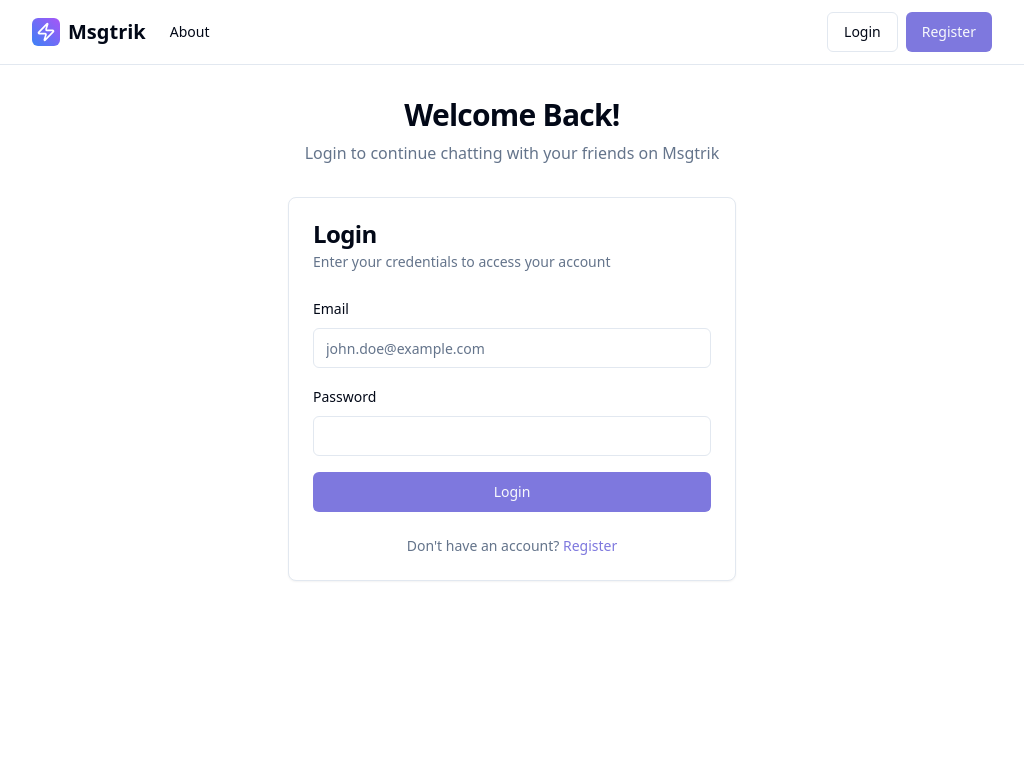
Test: Chat › should search for users
Type "test@example.com" into the field with id "email" at (512, 348), box 313,328 -> 711,368
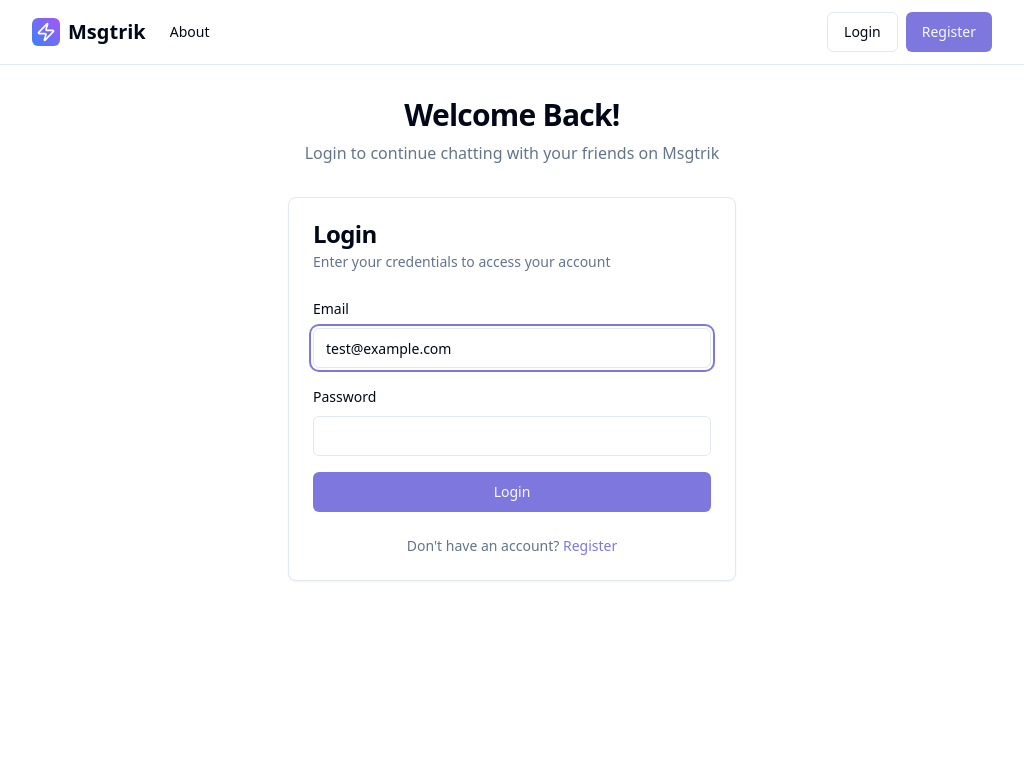
Type "testpassword" into the password field labelled "Password" at (512, 436), box 313,416 -> 711,456
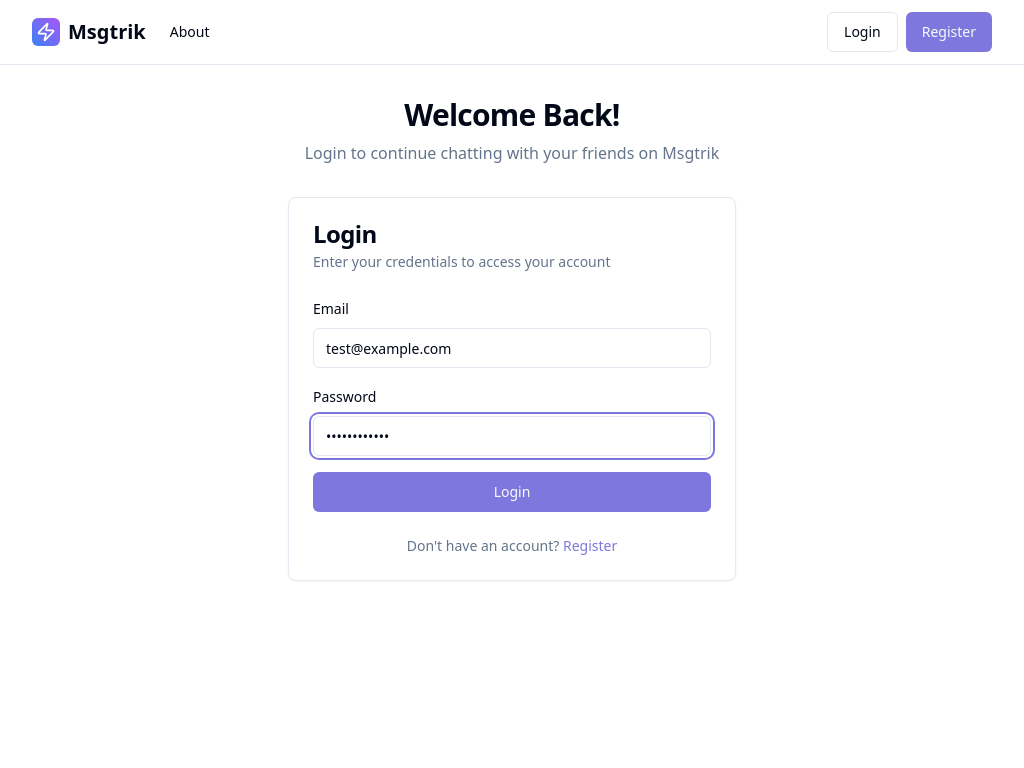
Click the submit button at (512, 492), box 313,472 -> 711,512
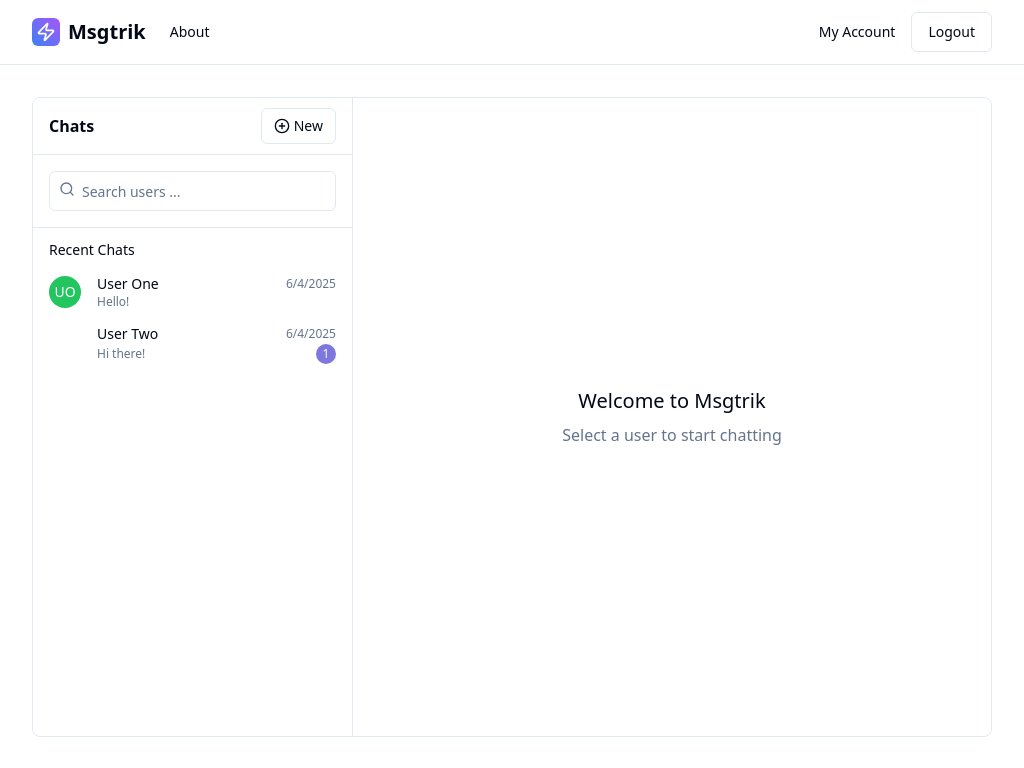
Type "search@example.com" into the field with test id "user-search-input" at (193, 191), box 49,171 -> 336,211
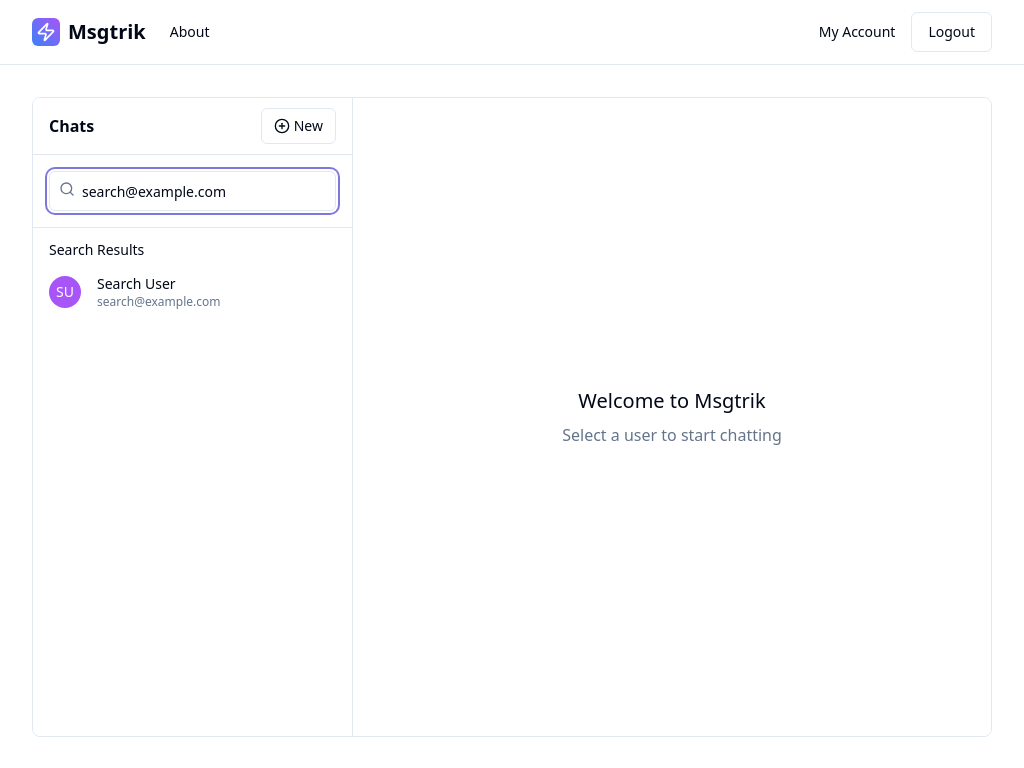
Result: the button "SU Search User search@example.com" is shown at 41,268 -> 344,316
